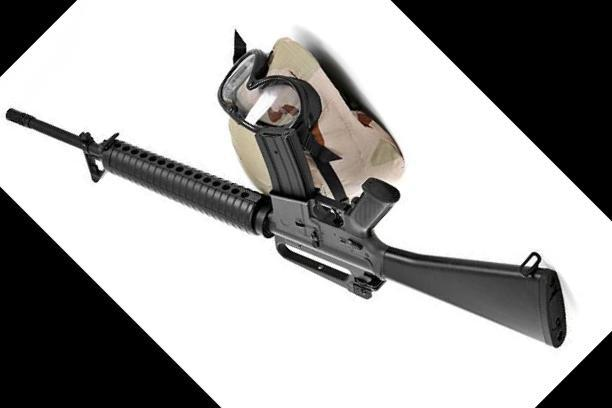larga: (3, 107, 569, 350)
